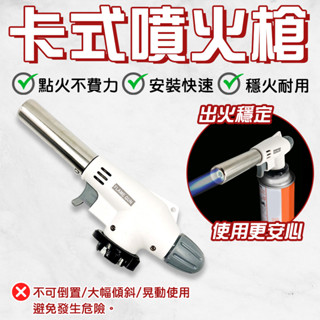gastorch: (206, 132, 301, 229)
